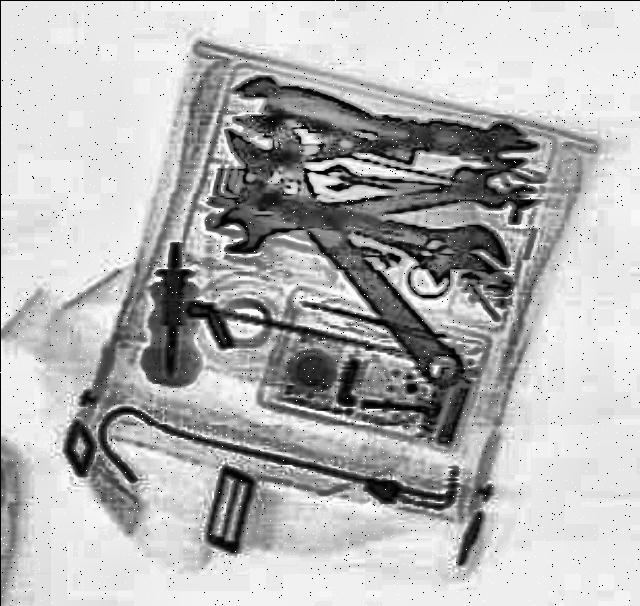Wrench: (214, 104, 482, 402), (228, 165, 516, 287), (206, 163, 516, 263)
